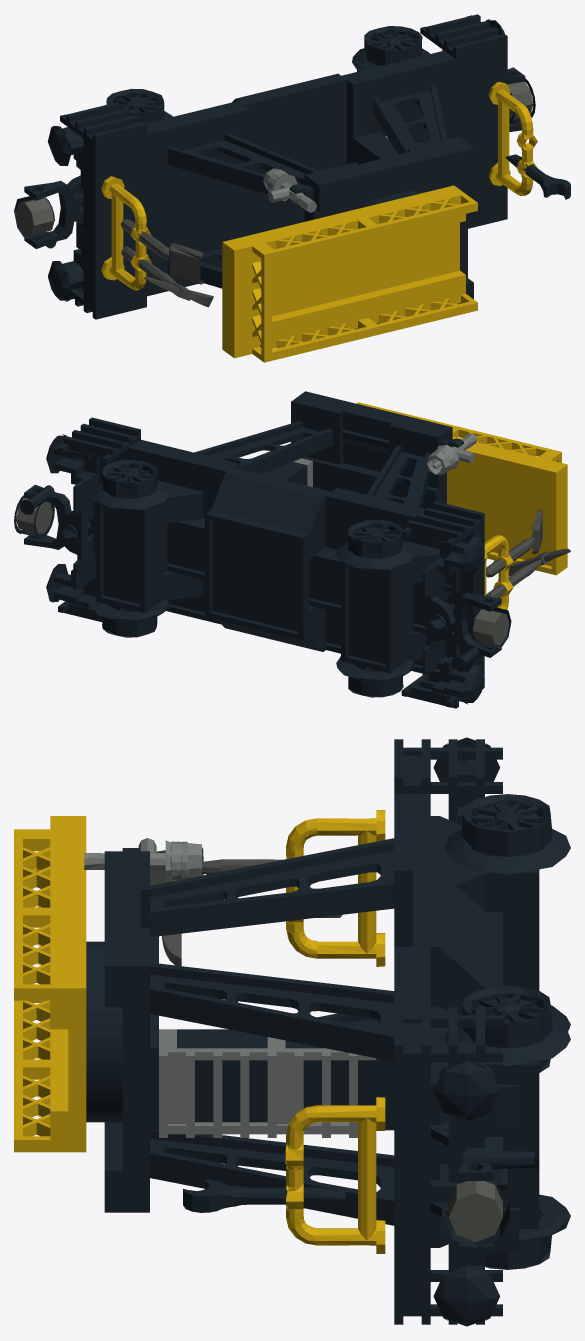
Rendered from overhead-gantry-and-lighting-maintenance-wagon.glb.
The picture shows the model from 3 angles, top to bottom: view 1: azimuth 30°, elevation 25°; view 2: azimuth 150°, elevation 25°; view 3: azimuth 270°, elevation 25°; orthographic projection. The views are drawn at different scales.
Size of the model in its own units: 155 by 54.4 by 98.4.
